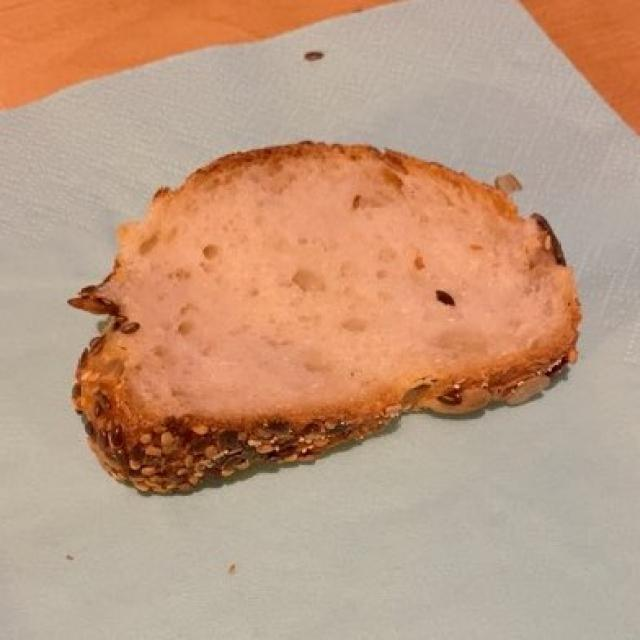bread: (81, 146, 579, 487)
